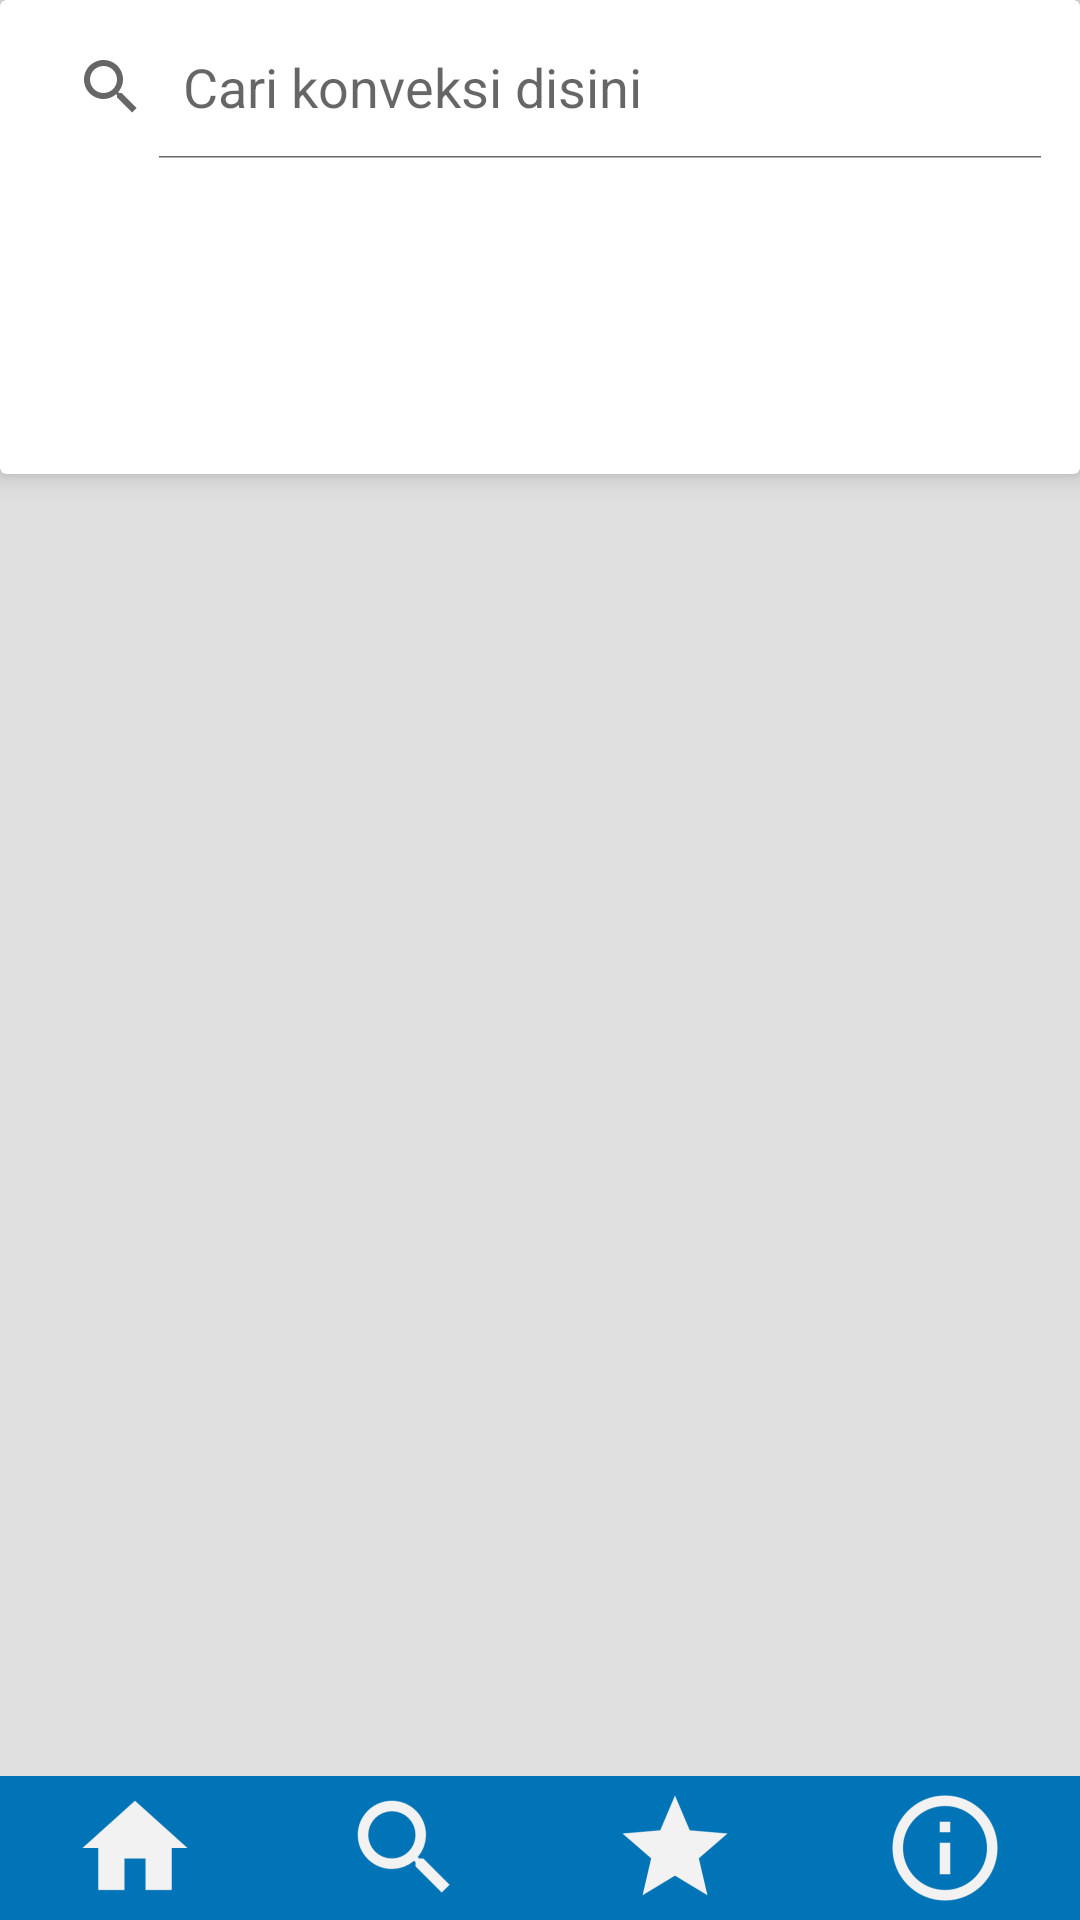

Icon click points for this 1080px x 1920px phone screenshot, format [x,y]:
cavii fav: [675,1845]
cavii home: [135,1846]
cavii info: [945,1848]
cavii search: [403,1846]
